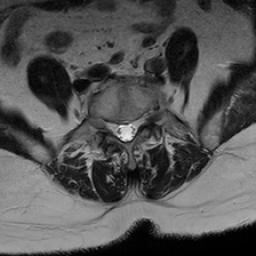CCS_normal: (122, 115, 129, 147)
LFS_normal: (136, 106, 144, 136)
LLS_normal: (129, 112, 137, 145)
RFS_normal: (106, 113, 114, 141)
RLS_normal: (114, 113, 122, 144)
